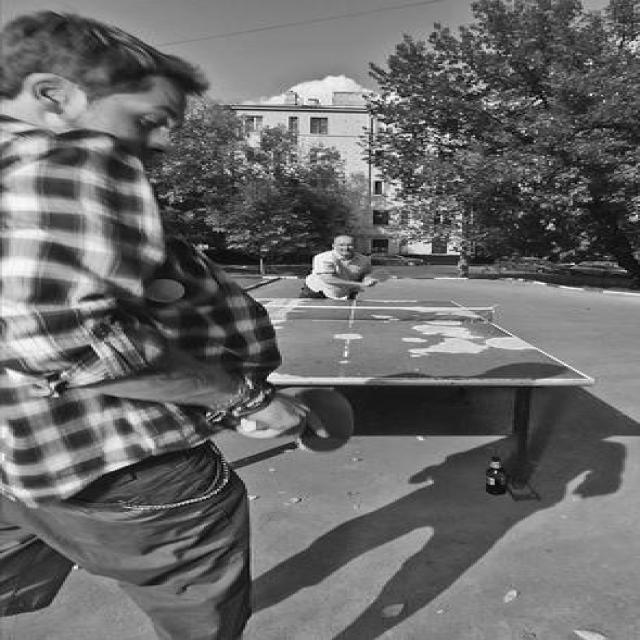ping-pong-ball: (144, 276, 185, 304)
